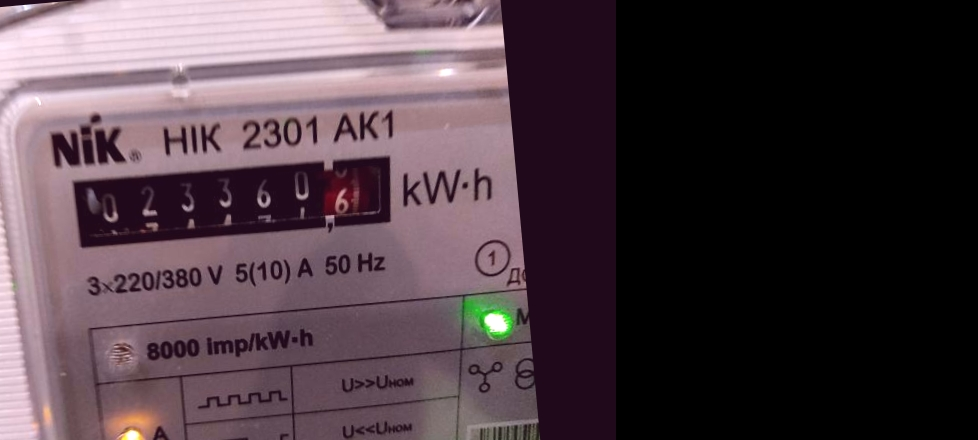0: (288, 166, 313, 203), (96, 188, 121, 224)
2: (135, 182, 159, 219)
3: (174, 179, 197, 215), (213, 174, 234, 210)
6: (250, 174, 273, 209), (329, 182, 350, 216)
screen: (57, 138, 415, 269)
